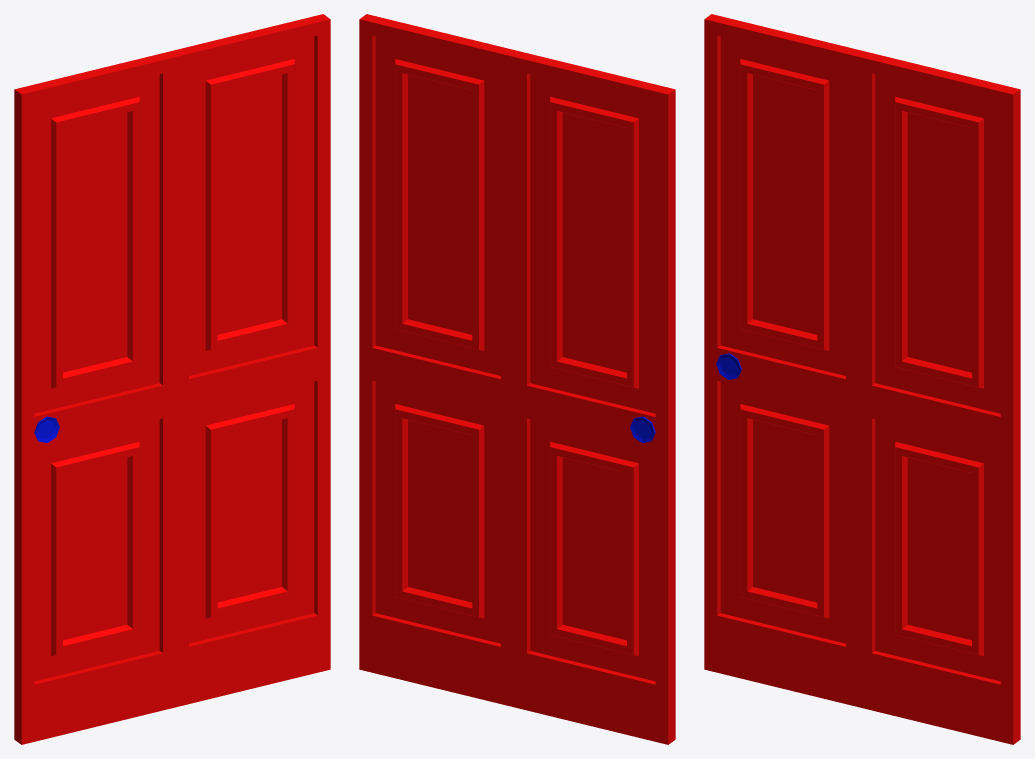
File: Door_2.fbx
The picture shows the model from 3 angles, left to right: view 1: azimuth 30°, elevation 25°; view 2: azimuth 150°, elevation 25°; view 3: azimuth 330°, elevation 25°; orthographic projection.
Visible parts, largest first — view 1: Door_2; view 2: Door_2; view 3: Door_2.
Part boxes in pixels (box(x1,y1,x2,y2)): Door_2: box(14, 14, 330, 744); Door_2: box(359, 14, 675, 744); Door_2: box(704, 14, 1020, 744).
Size of the model in its own units: 112 by 225 by 5.64.
